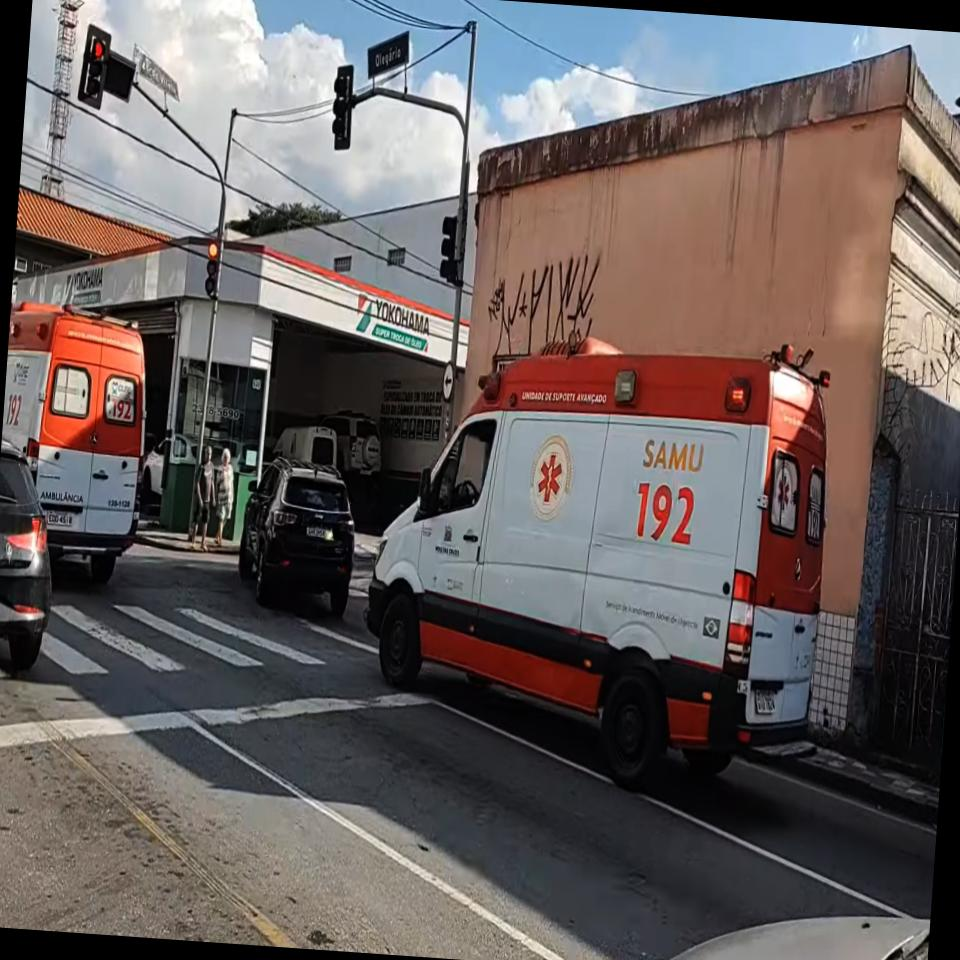bombeiro: (355, 322, 844, 798), (0, 300, 155, 585)
